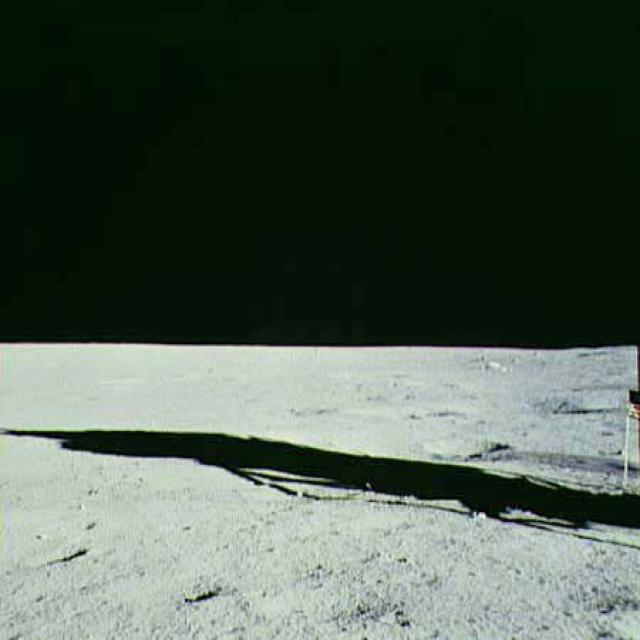crater: (151, 566, 257, 608), (17, 532, 104, 576)
